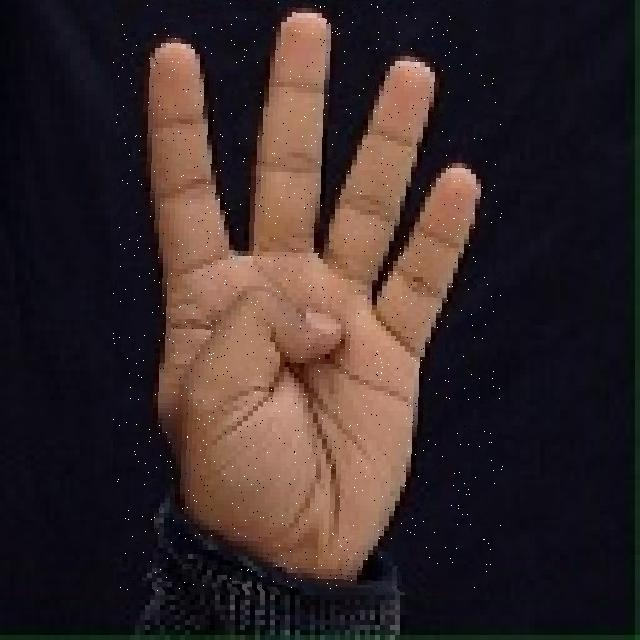Thanks: (114, 1, 504, 592)
